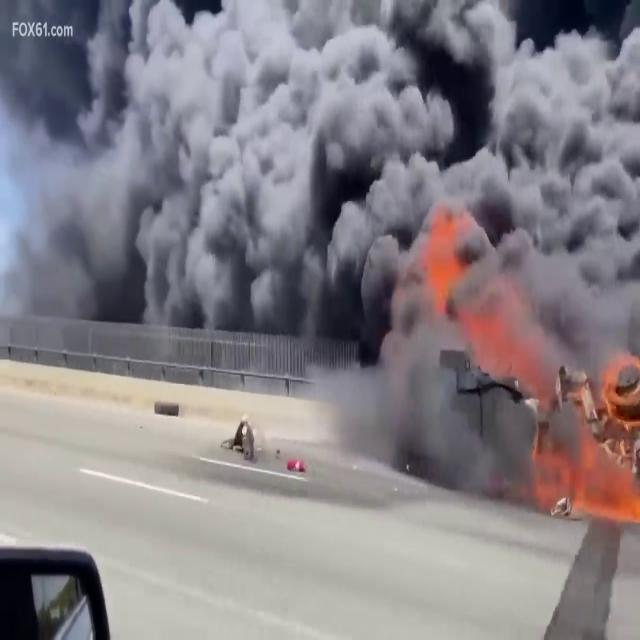Smoke: (0, 0, 638, 351)
